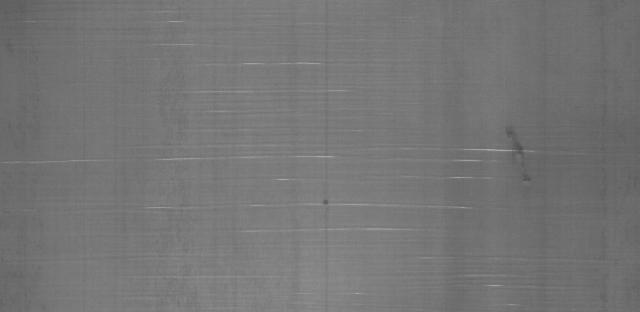waist_folding: (88, 30, 484, 300)
